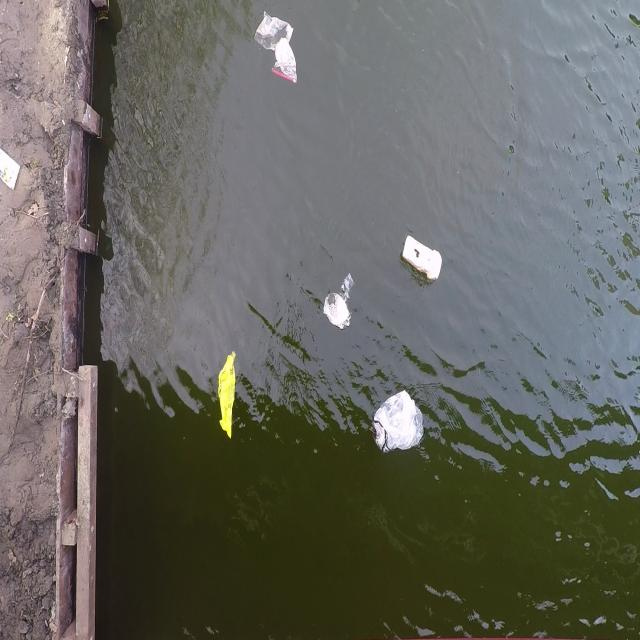Sac plastique: (368, 384, 432, 460), (214, 344, 243, 448), (319, 268, 361, 329), (246, 5, 300, 41), (266, 41, 305, 84)
